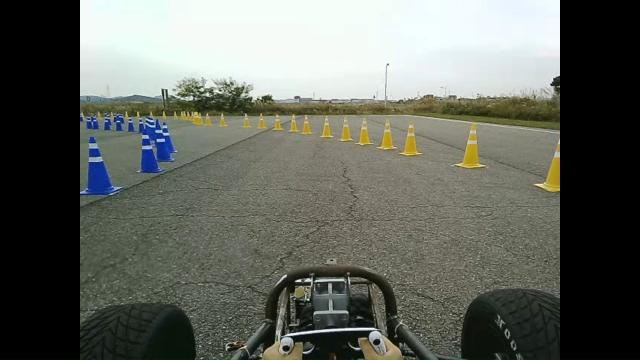blue cone: (80, 136, 123, 195), (136, 134, 165, 173), (154, 137, 174, 162), (161, 131, 177, 153), (143, 116, 157, 140), (127, 116, 136, 132), (103, 116, 112, 130), (115, 119, 124, 131), (92, 118, 100, 129), (86, 116, 92, 129)
yellow cone: (453, 122, 487, 168), (534, 138, 560, 192), (399, 120, 423, 156), (376, 118, 398, 150), (355, 116, 373, 146), (338, 115, 354, 142), (320, 114, 333, 138), (300, 114, 314, 135), (272, 112, 284, 131), (288, 113, 298, 132), (257, 112, 267, 129), (192, 111, 204, 125), (241, 112, 251, 128), (218, 112, 228, 127), (204, 112, 212, 126)
